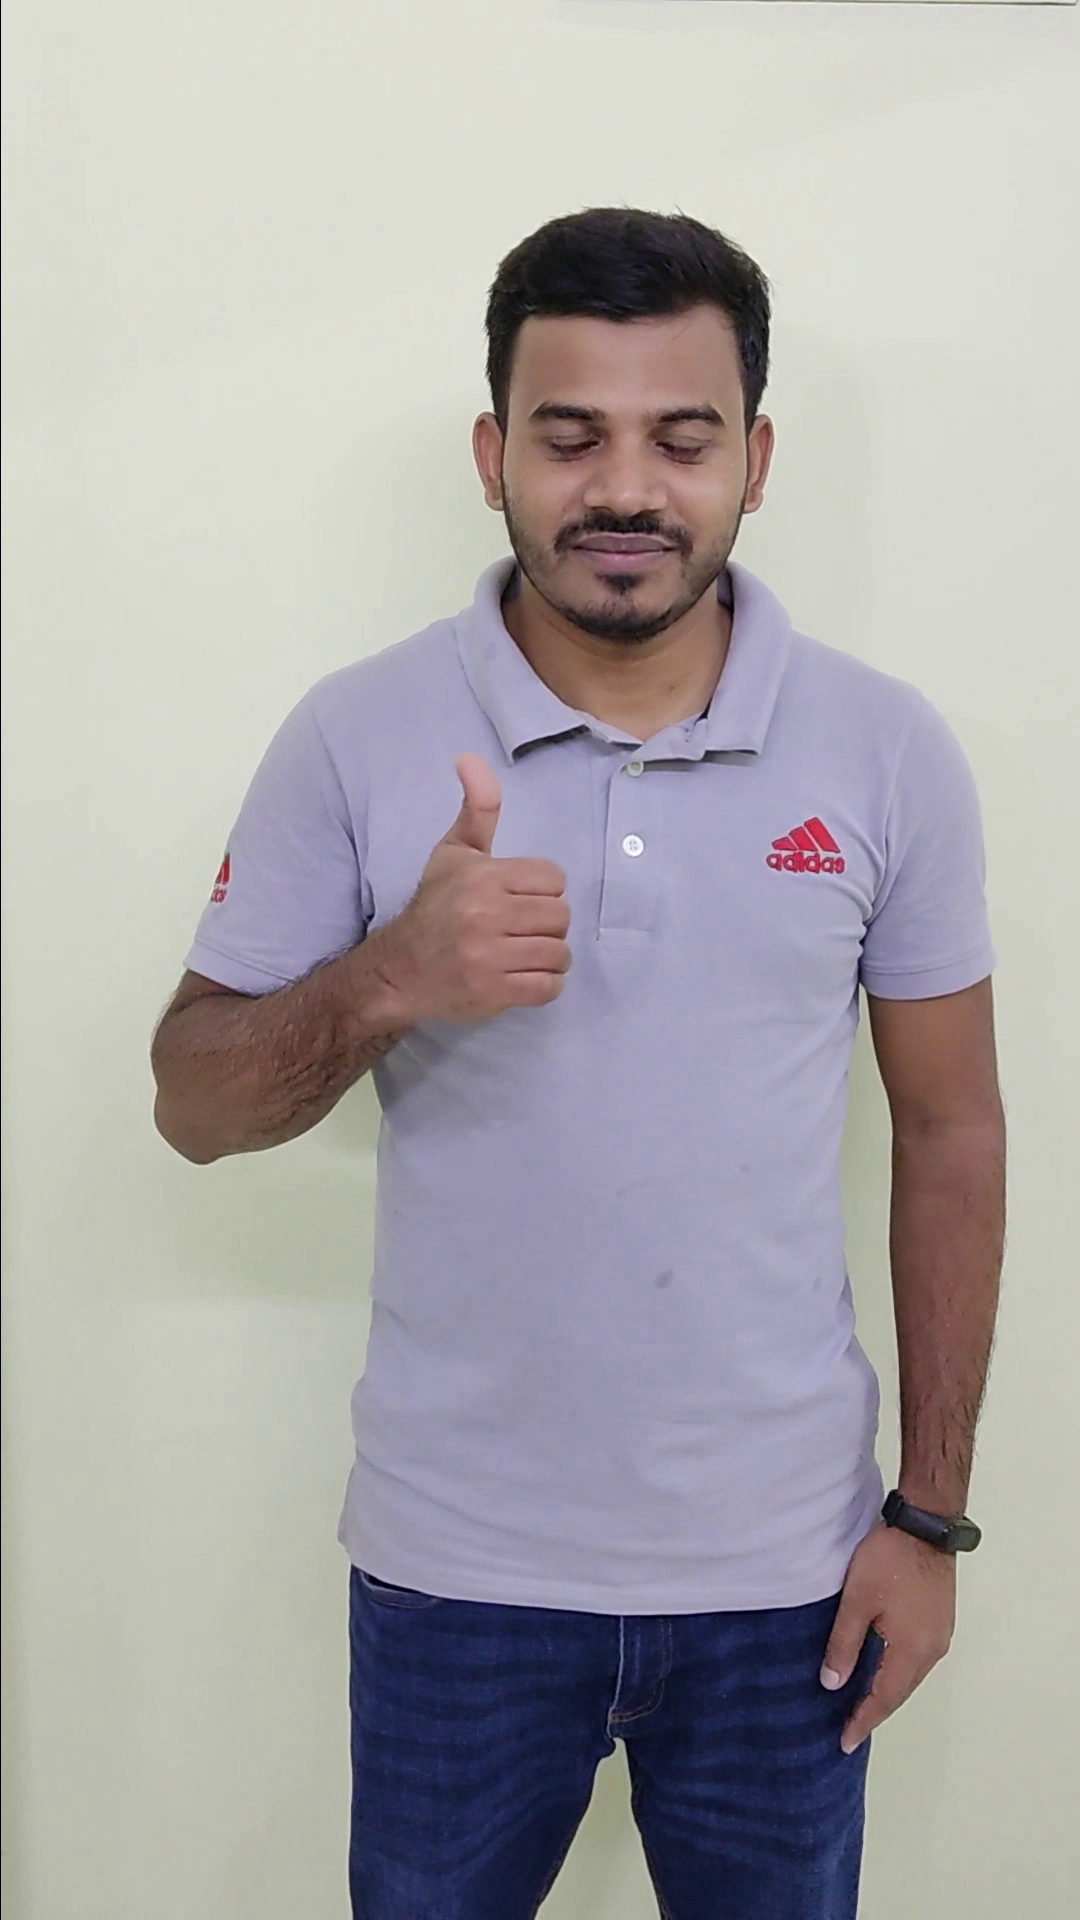Like: (365, 738, 587, 1035)
None: (804, 1472, 990, 1768)
